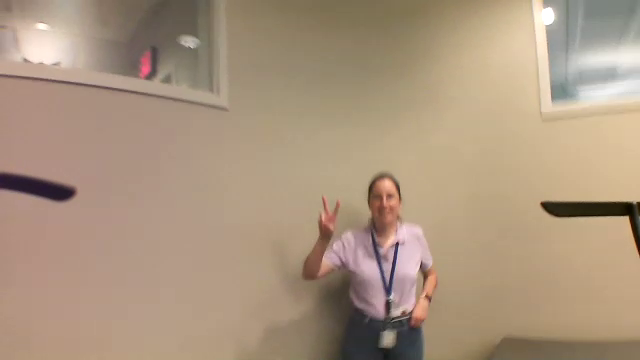peace: (315, 190, 347, 237)
